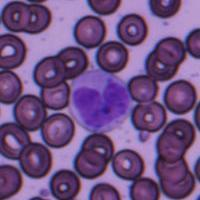M: (68, 69, 132, 133)
